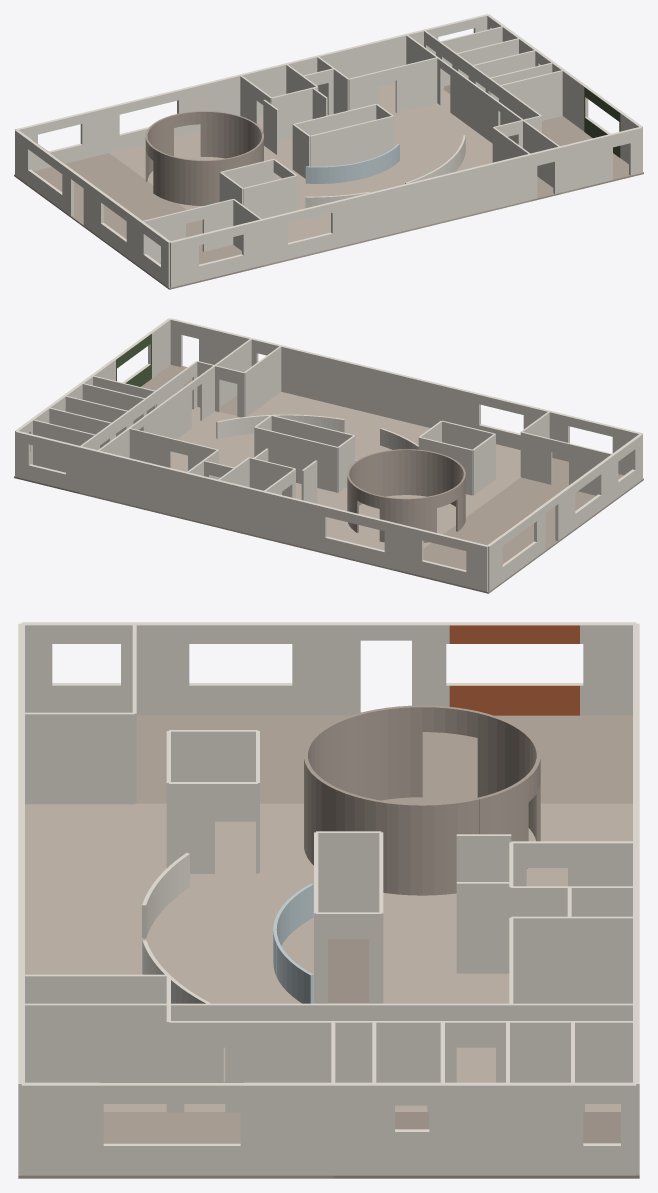
3 views of the same model, one above another, from view 1: azimuth 30°, elevation 25°; view 2: azimuth 150°, elevation 25°; view 3: azimuth 270°, elevation 25° (orthographic). The views are drawn at different scales.
Parts seen in each view (by area): view 1: oficina_4_estructura; view 2: oficina_4_estructura; view 3: oficina_4_estructura.
Boxes of the visible parts, box(x1,y1,x2,y2) form: oficina_4_estructura: box(14, 14, 643, 289); oficina_4_estructura: box(14, 318, 643, 593); oficina_4_estructura: box(18, 622, 639, 1178).
Bounding box in the file's own units: 32 × 18.15 × 3.
